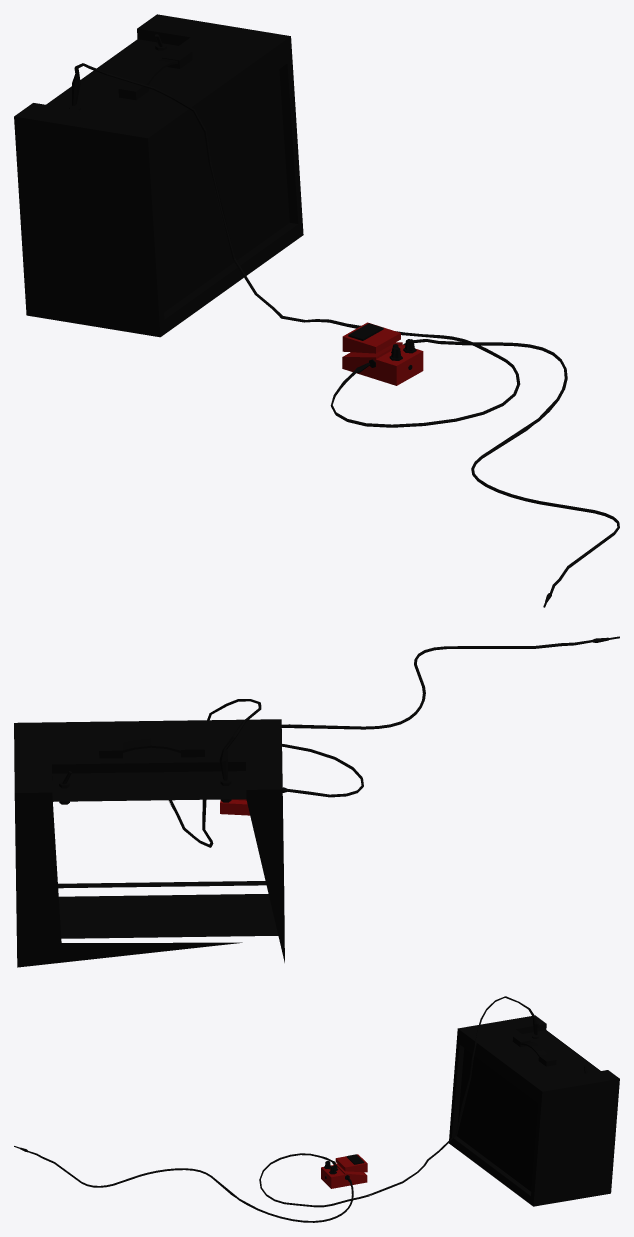
Rendered from amp.glb.
3 views of the same model, one above another, from view 1: azimuth 30°, elevation 25°; view 2: azimuth 150°, elevation 25°; view 3: azimuth 270°, elevation 25° (orthographic). The views are drawn at different scales.
Visible parts, largest first — view 1: pCylinder93_sofa1_0.002; view 2: pCylinder93_sofa1_0.002; view 3: pCylinder93_sofa1_0.002.
Boxes of the visible parts, x1=… form: pCylinder93_sofa1_0.002: x1=14, y1=14, x2=619, y2=607; pCylinder93_sofa1_0.002: x1=14, y1=636, x2=619, y2=967; pCylinder93_sofa1_0.002: x1=14, y1=996, x2=619, y2=1222.
Size of the model in its own units: 2.51 by 1.75 by 6.44.
